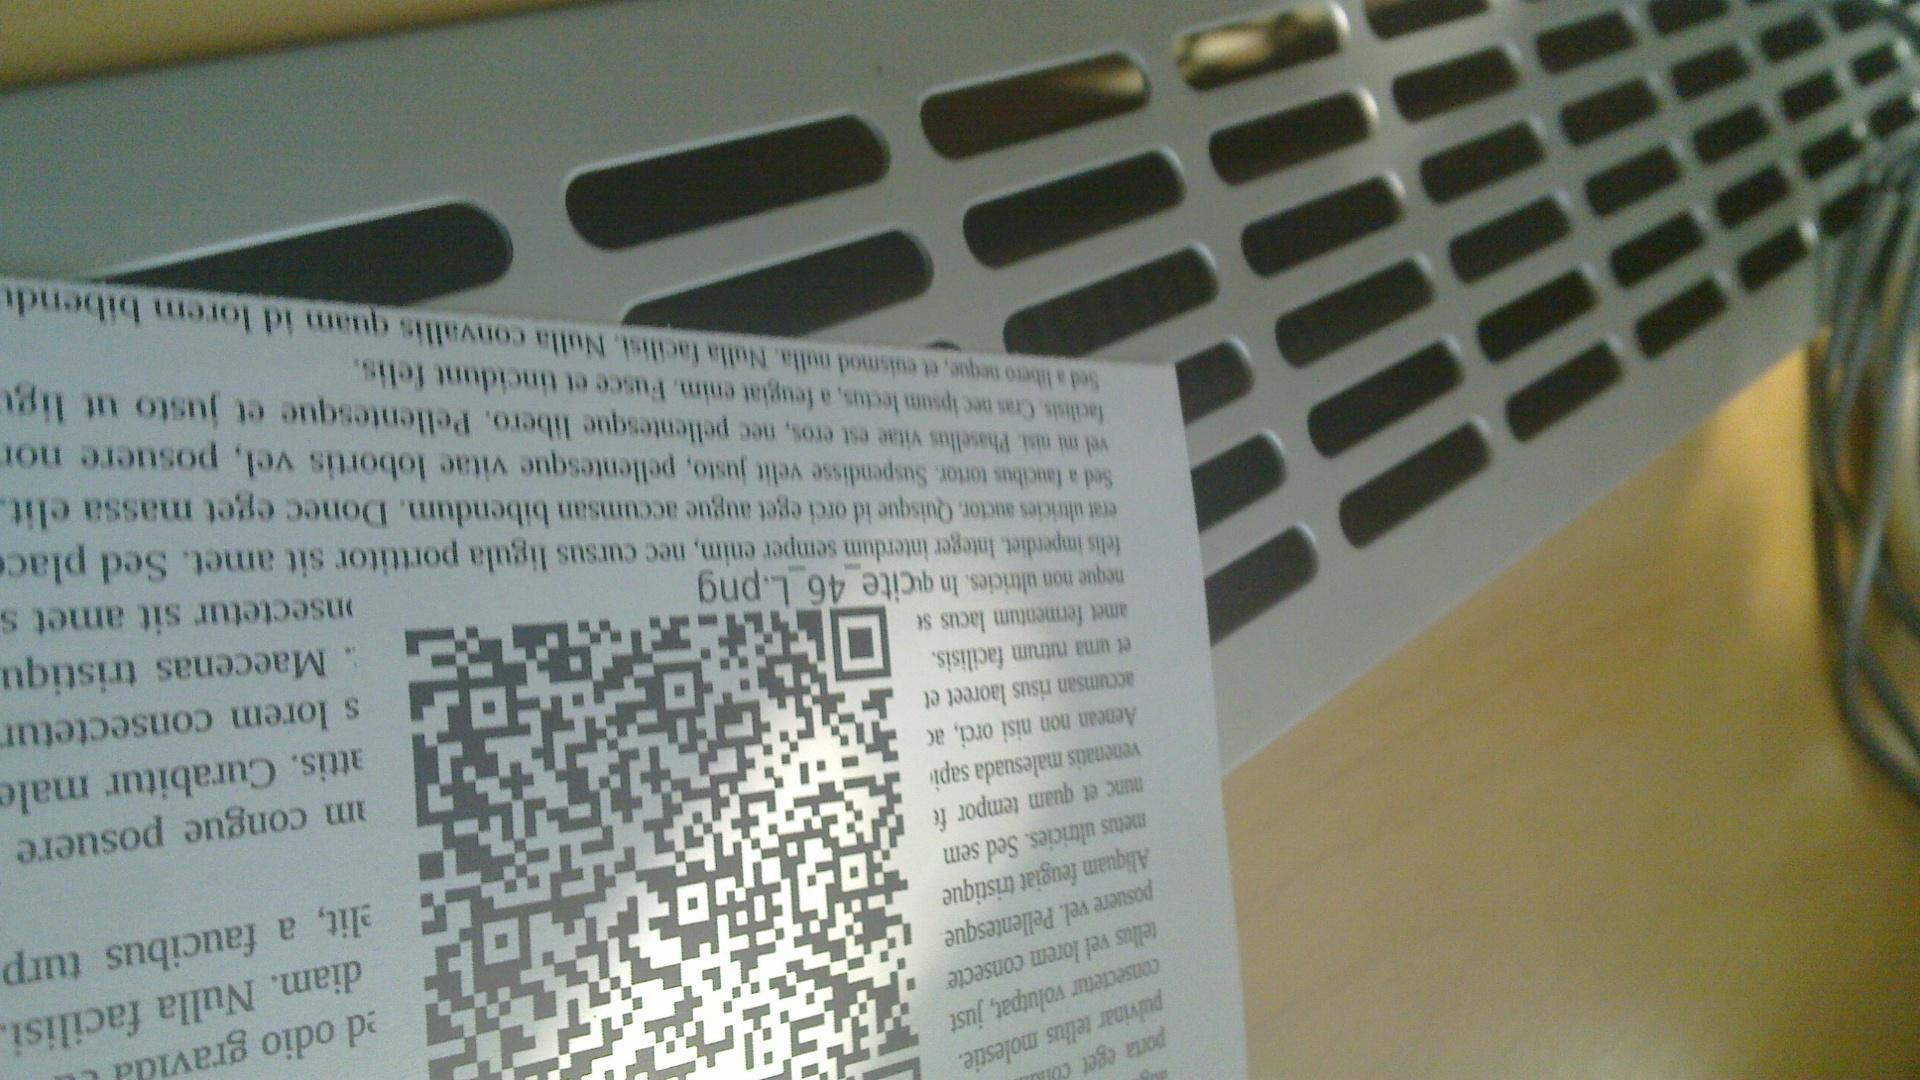Finder pattern: (823, 597, 894, 687)
